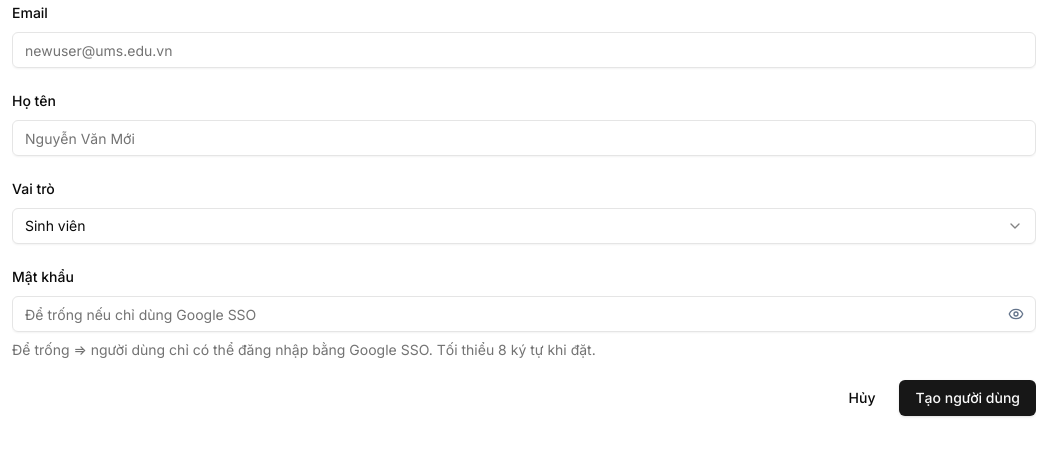
it: UserCreateForm — Admin create-user flow (FE-S15) › M31-FE-S15-X2: short password → inline field error
Type "shortpw@ums.edu.vn" into the field labelled "Email" at (524, 50), box [12,32,1036,68]
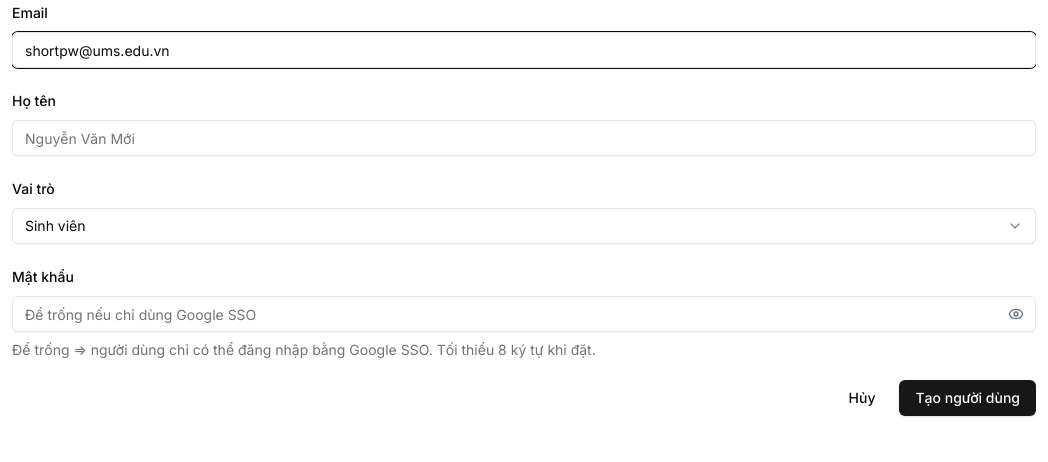
Type "Mật khẩu ngắn" into the field labelled "Họ tên" at (524, 138), box [12,120,1036,156]
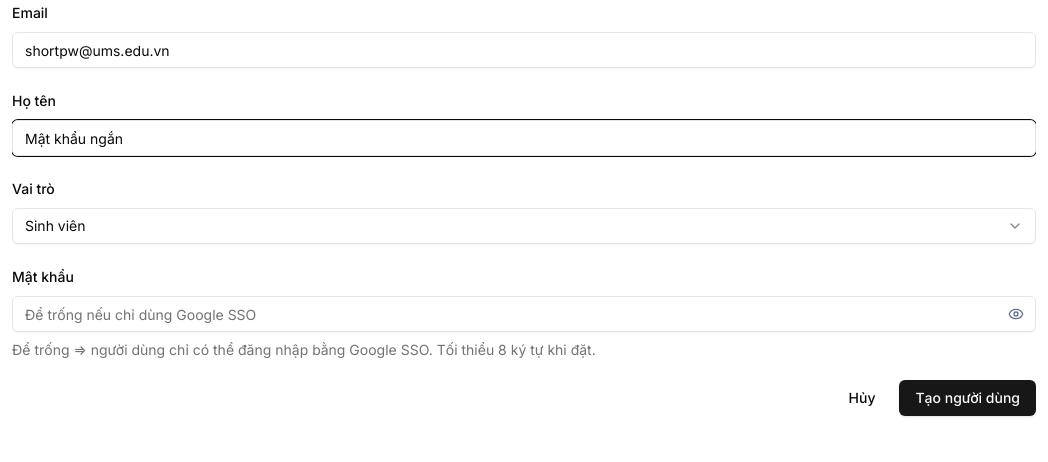
Type "abc" into the password field labelled "Mật khẩu" at (524, 314), box [12,296,1036,332]
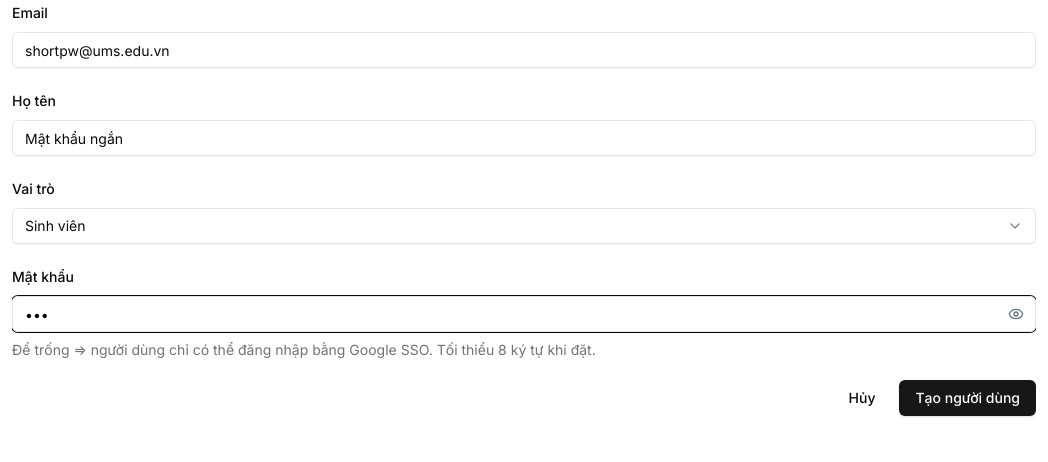
Click the button "Tạo người dùng" at (968, 398), box [900,380,1036,416]
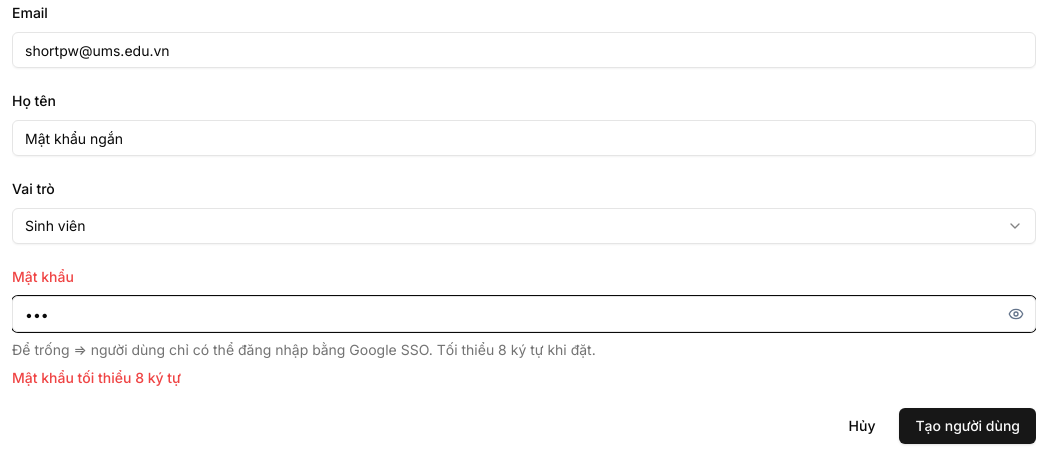
Expected: the text "Mật khẩu tối thiểu 8 ký tự" is shown, [12,369,181,386]
